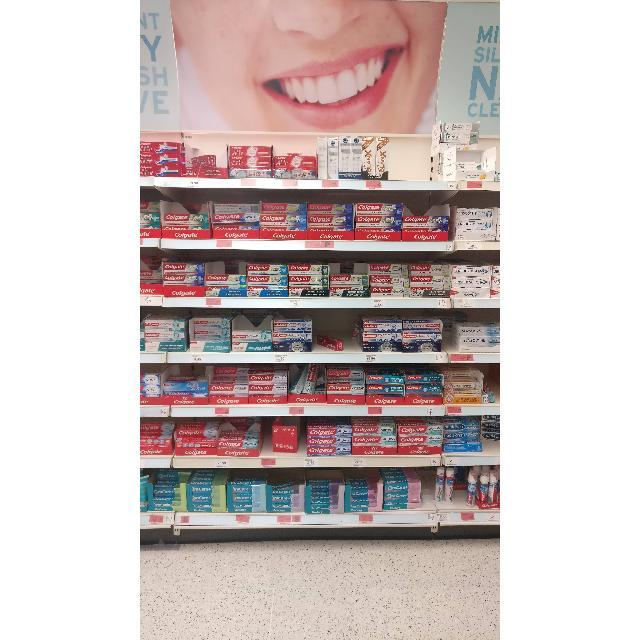empty: (390, 96, 430, 180), (422, 467, 436, 513)
front: (482, 442, 500, 454), (454, 490, 465, 509), (345, 340, 357, 352)
